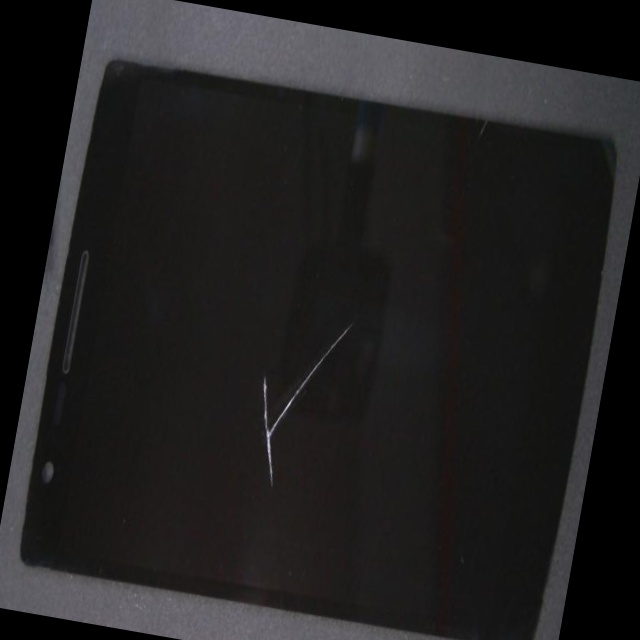scratch: (207, 152, 555, 472)
